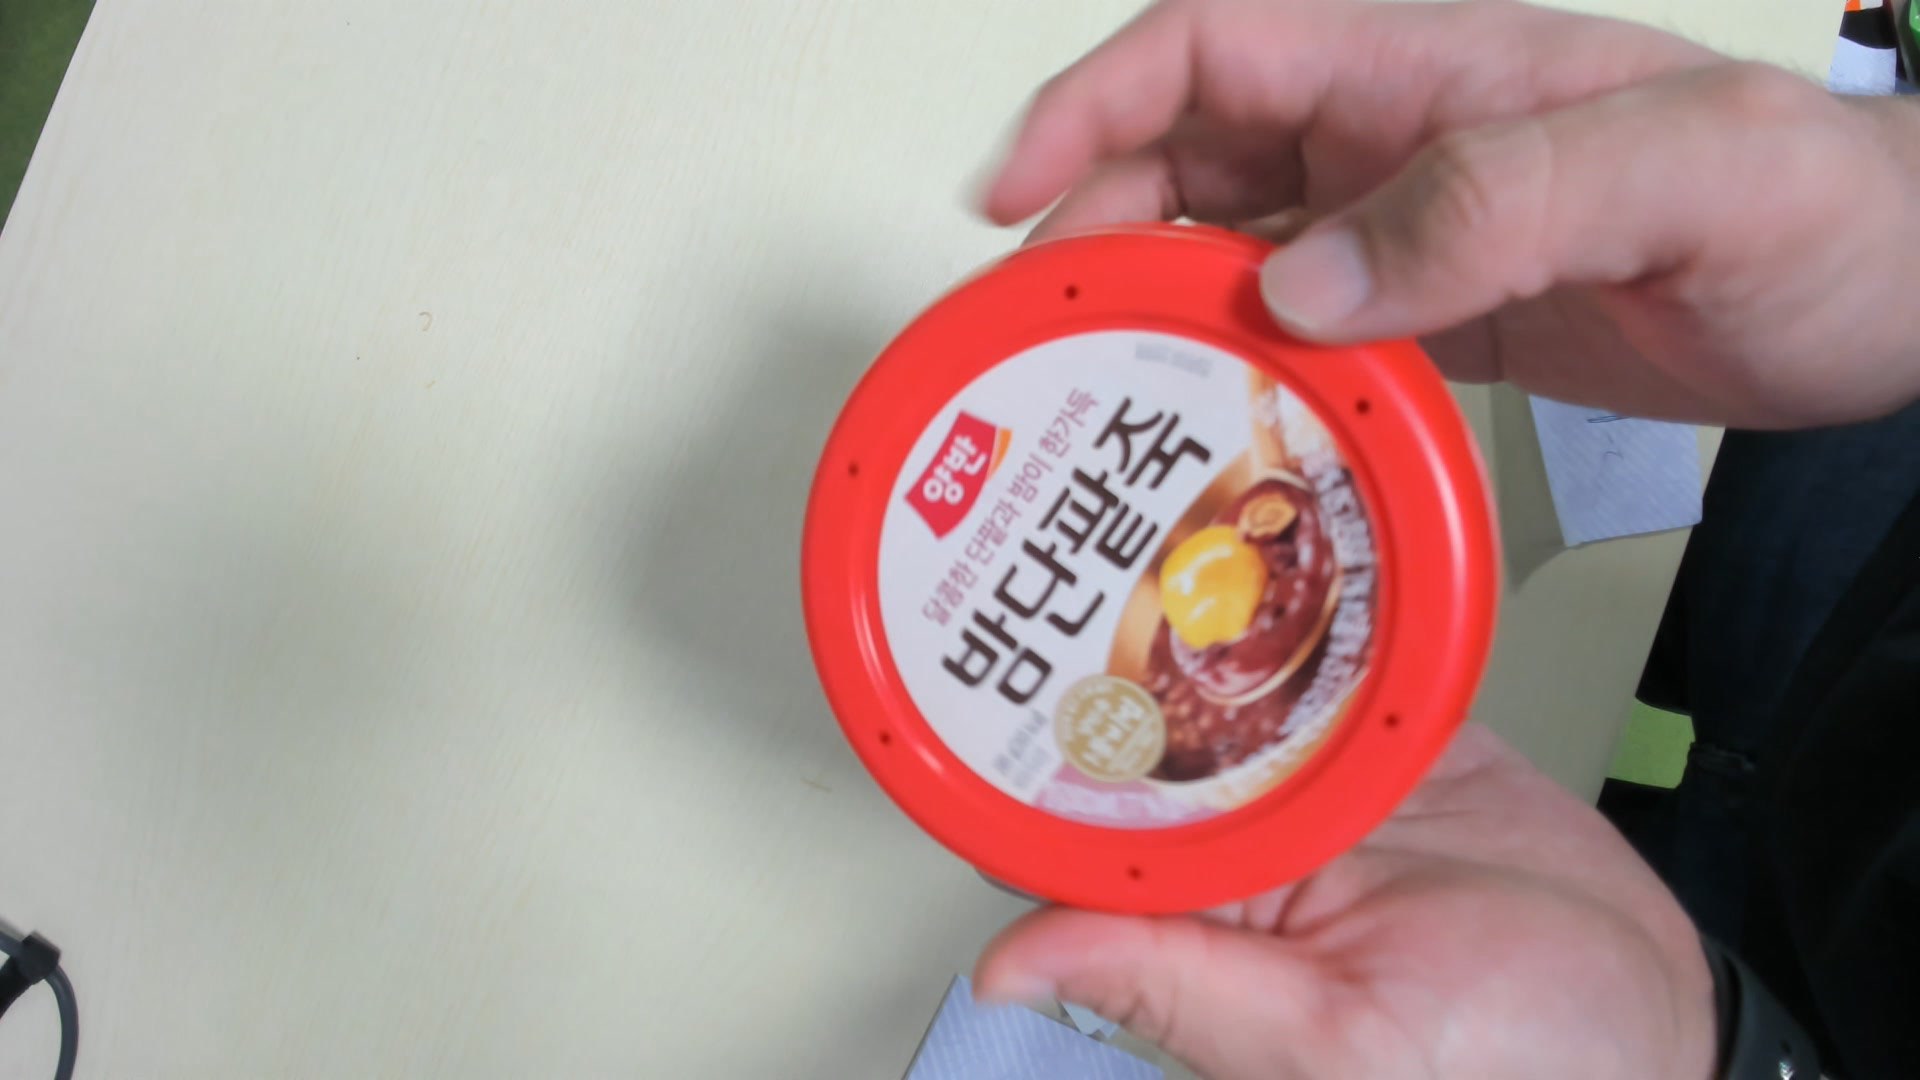InstantMeals_200_299g_NonHalal_NonHealthy: (793, 215, 1501, 924)
